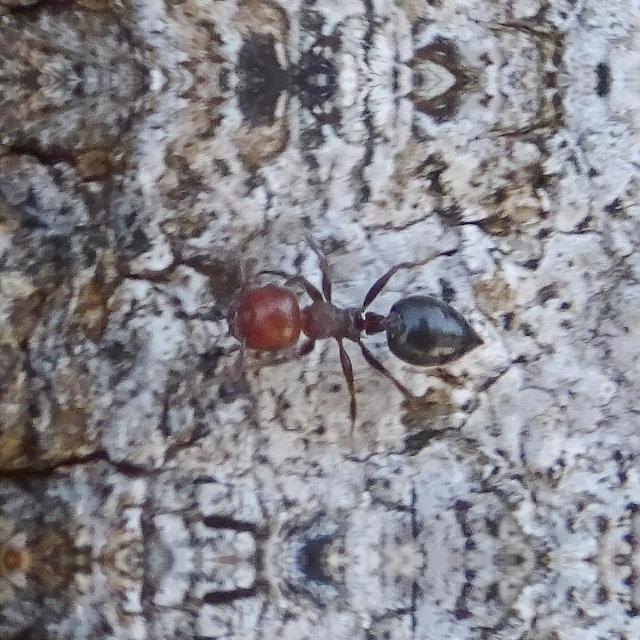Crematogaster: (212, 260, 476, 380)
